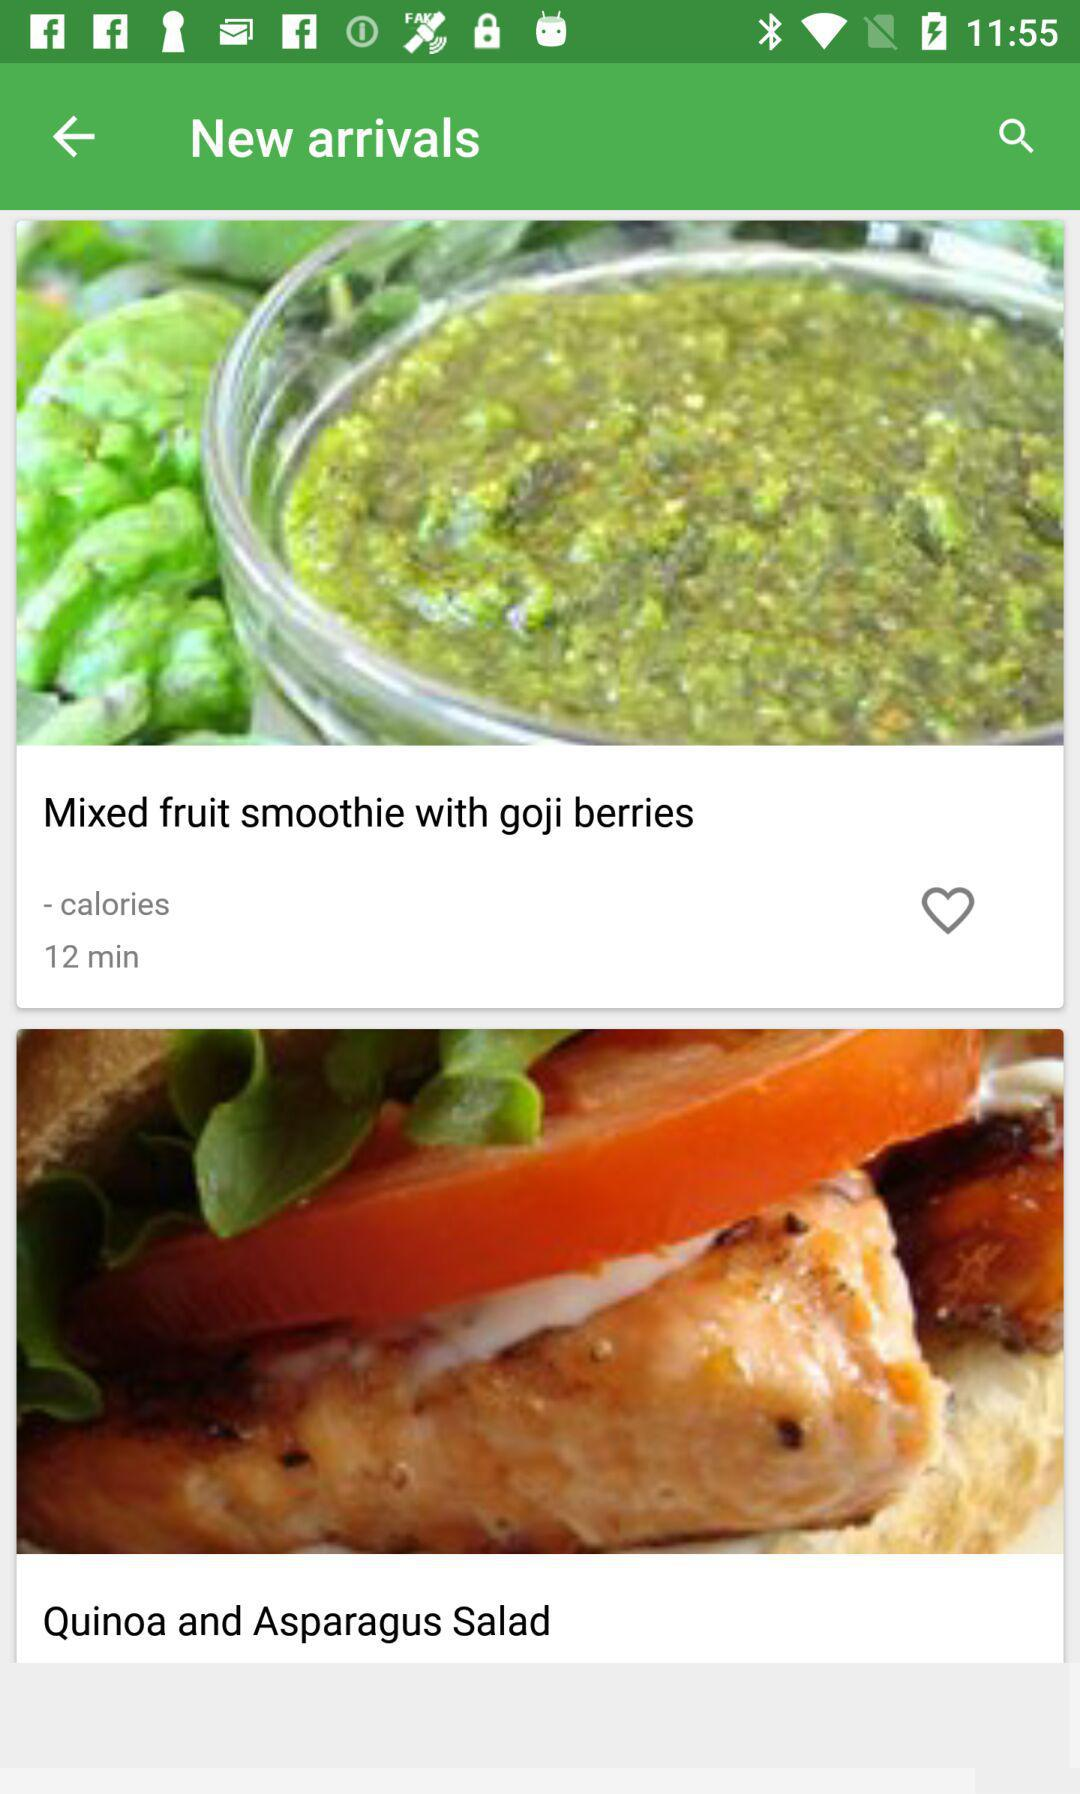Card: (15, 220, 1065, 1010)
Icon: (921, 885, 975, 935), (53, 117, 97, 159), (998, 119, 1035, 155)
Image: (15, 220, 1065, 746), (17, 1029, 1065, 1554)
Text: (46, 796, 694, 837), (45, 1604, 551, 1645), (192, 117, 480, 160), (44, 891, 170, 918), (47, 944, 140, 970)
Toolbar: (1, 64, 1080, 211)
UpperTaskBar: (1, 1, 1080, 64)
